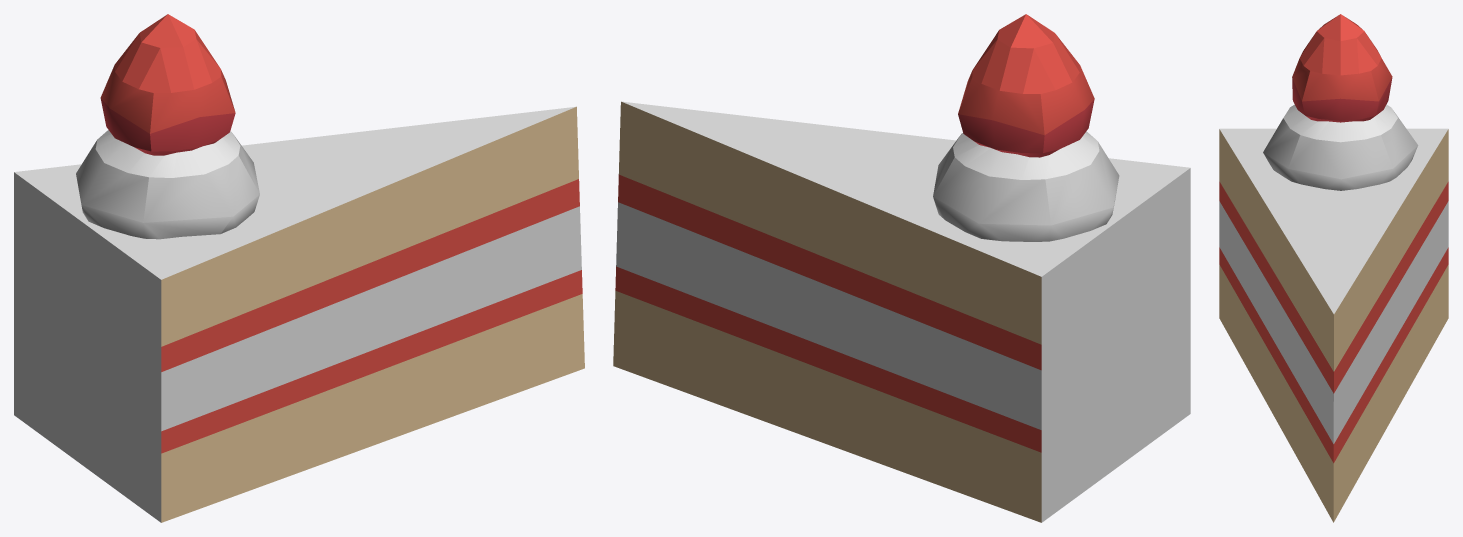
The model's file is cake.fbx.
3 renders of one model, left to right at view 1: azimuth 30°, elevation 25°; view 2: azimuth 150°, elevation 25°; view 3: azimuth 270°, elevation 25°, orthographic. The views are drawn at different scales.
Parts seen in each view (by area): view 1: cake; view 2: cake; view 3: cake.
Part boxes in pixels (x1,y1,x2,y2): cake: (14,14,584,522); cake: (613,14,1190,522); cake: (1219,14,1448,522).
Bounding box in the file's own units: 0.3976 × 0.3441 × 0.2034.
